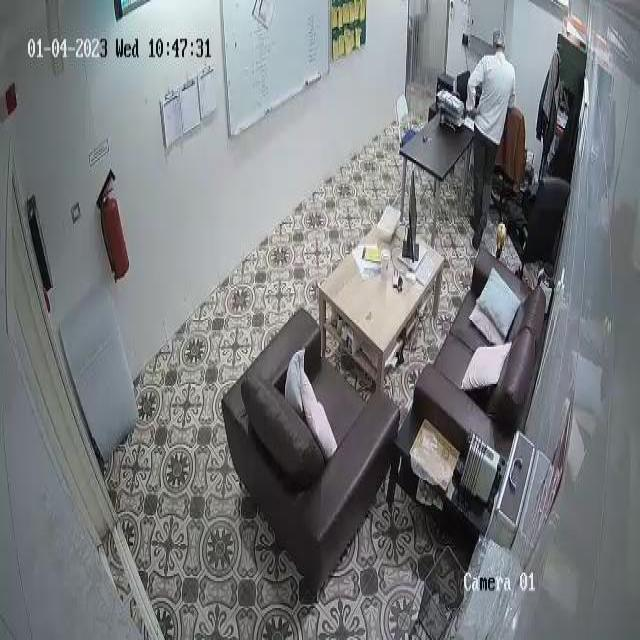hairnet: (493, 26, 506, 52)
